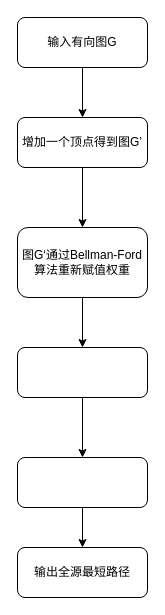
This 165x615 diagram has some shape labels left out. The centre of each missing label's shape, as x and y in pixels:
删除之前新增的顶点: the point at 82,372
通过Dijkstra算法在新图G’中寻找每个顶点的最短路径: the point at 82,482
